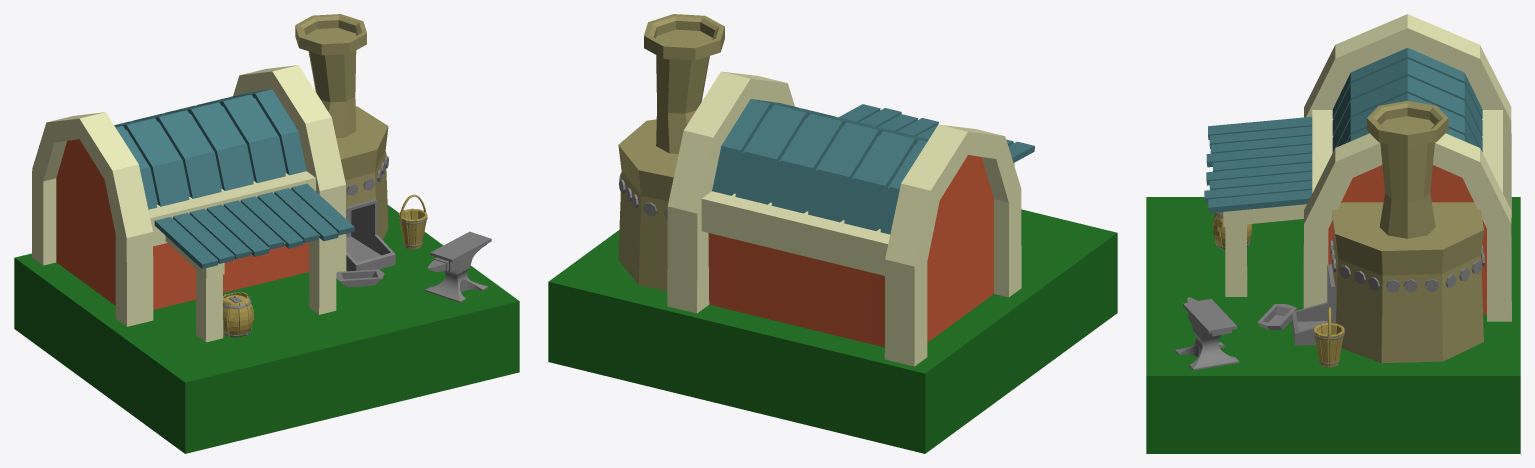
Rendered from demirci.fbx.
3 renders of one model, left to right at view 1: azimuth 30°, elevation 25°; view 2: azimuth 150°, elevation 25°; view 3: azimuth 270°, elevation 25°, orthographic. The views are drawn at different scales.
Visible parts, largest first — view 1: Plane, Cube.001, Cube, Cube.005, Cube.004, Cylinder.001, Cube.003, Cylinder, Cube.006, Plane.001, Cube.002, fıcı (+2 smaller); view 2: Plane, Cube.001, Cube.005, Cube, Cube.002, Cylinder, Cylinder.001, Cube.004; view 3: Plane, Cylinder, Cube.001, Cube.004, Cube, Cylinder.001, Cube.005, Cube.003, Cube.002, Plane.001, Cube.006, kuyu.001 (+2 smaller).
Boxes of the visible parts, <box> form: Plane: <box>14,205,519,453</box>; Cube.001: <box>32,65,346,326</box>; Cube: <box>114,89,306,209</box>; Cube.005: <box>56,139,308,309</box>; Cube.004: <box>154,183,354,268</box>; Cylinder.001: <box>295,14,366,138</box>; Cube.003: <box>165,236,337,342</box>; Cylinder: <box>336,106,388,239</box>; Cube.006: <box>346,199,395,271</box>; Plane.001: <box>424,231,491,302</box>; Cube.002: <box>148,171,315,246</box>; fıcı: <box>223,292,254,337</box>; Plane: <box>548,209,1117,453</box>; Cube.001: <box>667,71,1021,366</box>; Cube.005: <box>708,155,993,347</box>; Cube: <box>712,99,928,234</box>; Cube.002: <box>701,191,889,275</box>; Cylinder: <box>618,119,678,291</box>; Cylinder.001: <box>644,14,724,153</box>; Cube.004: <box>839,104,1034,162</box>; Plane: <box>1146,197,1520,453</box>; Cylinder: <box>1331,202,1483,363</box>; Cube.001: <box>1303,14,1511,321</box>; Cube.004: <box>1204,116,1312,213</box>; Cube: <box>1332,47,1482,152</box>; Cylinder.001: <box>1367,100,1448,238</box>; Cube.005: <box>1328,165,1486,314</box>; Cube.003: <box>1223,204,1306,296</box>; Cube.002: <box>1312,110,1502,192</box>; Plane.001: <box>1175,297,1239,370</box>; Cube.006: <box>1291,264,1336,345</box>; kuyu.001: <box>1313,307,1344,367</box>.
Size of the model in its own units: 526 by 409 by 465.
